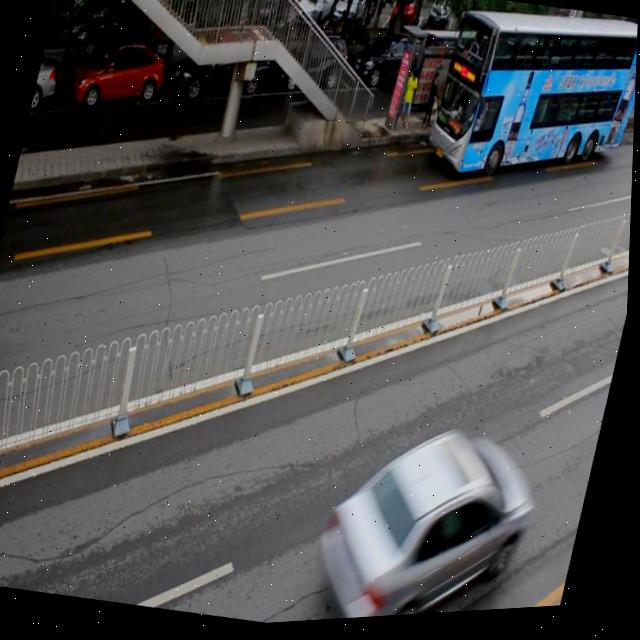car: (301, 404, 554, 625), (68, 33, 172, 124), (169, 35, 275, 118), (345, 30, 436, 110), (274, 30, 351, 103), (31, 51, 64, 113)
van: (418, 0, 639, 215)
